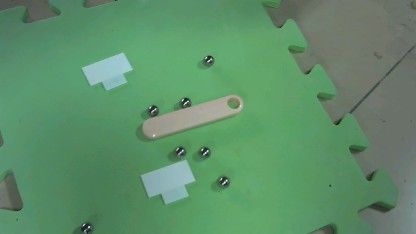ironball: (143, 99, 160, 118), (212, 171, 231, 187), (171, 143, 187, 159), (76, 218, 93, 232), (197, 144, 212, 159), (177, 94, 191, 109), (202, 54, 213, 67)
